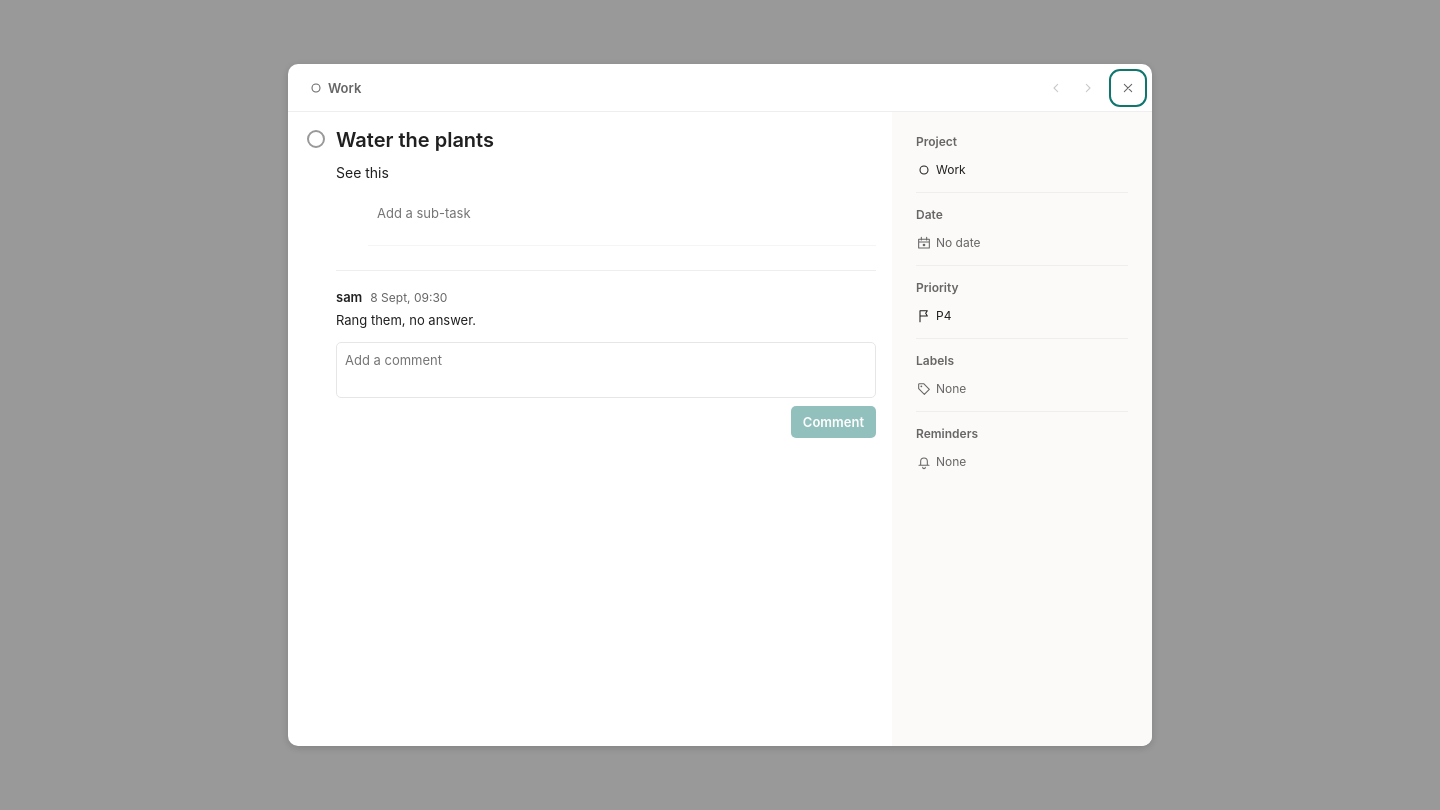
editing the name and the description › warns BEFORE typing when formatting would be lost
This screenshot has width=1440, height=810.
What coordinates should you click on to do the following:
click the button with aria-label "Edit the description"
I would click on:
 (362, 172)
Its box is [332,160,872,185].
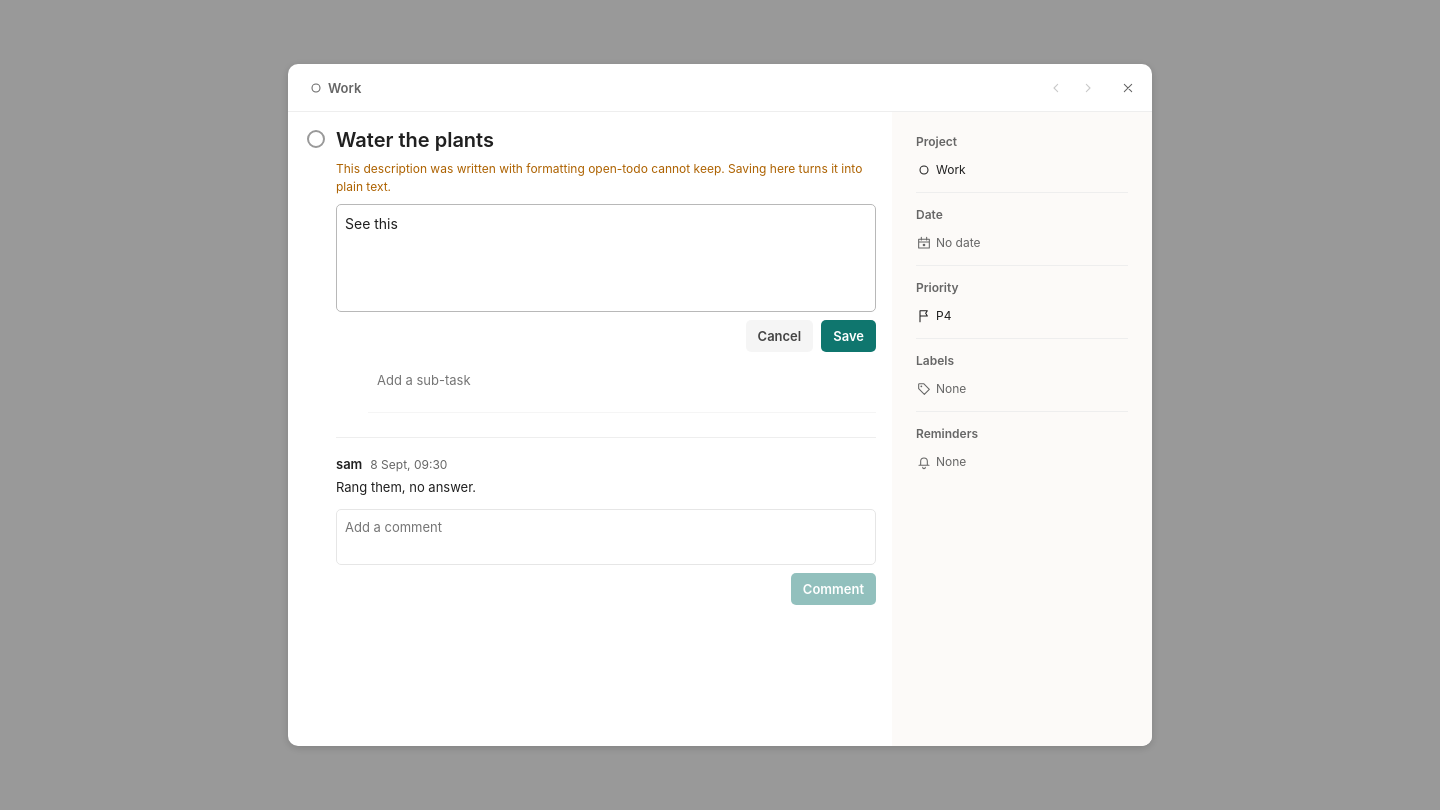
Now the text "cannot keep" is shown, box [336,161,866,194]
